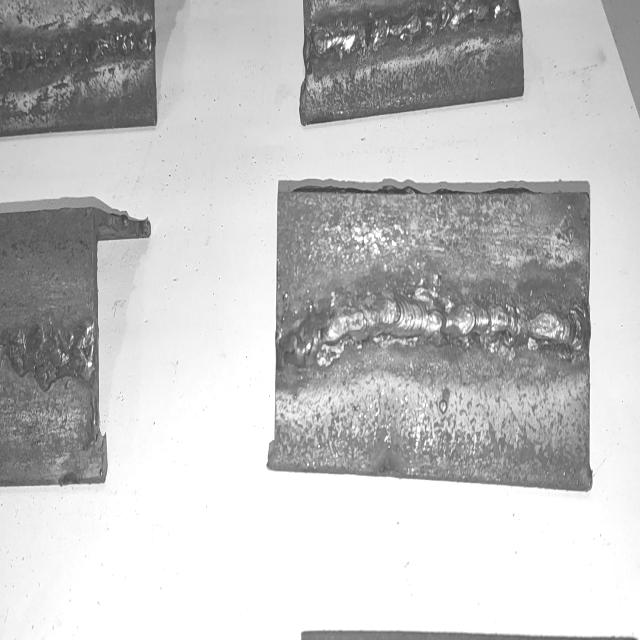Bad Weld: (284, 300, 585, 378)
Defect: (0, 322, 95, 392), (276, 302, 320, 387)
Good Weld: (313, 0, 511, 59), (1, 31, 154, 77)
